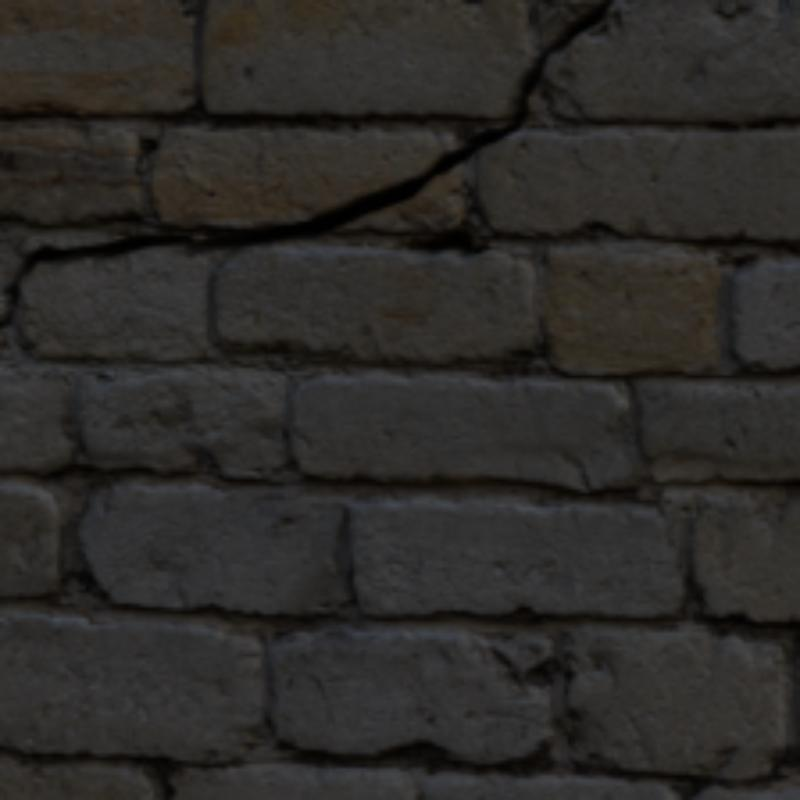pothole: (0, 0, 611, 325)
